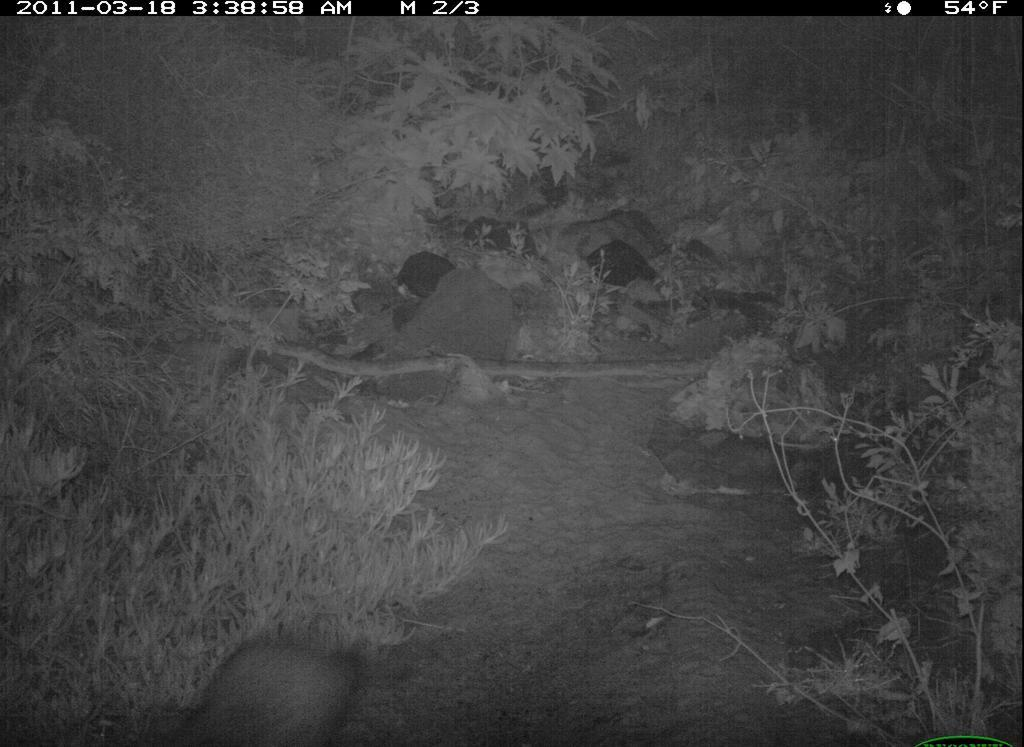raccoon: (146, 635, 390, 745)
